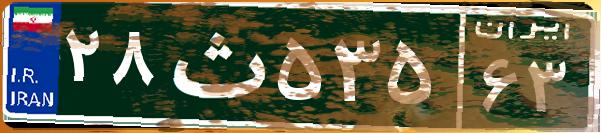2: (57, 26, 110, 107)
3: (330, 28, 385, 110), (525, 38, 570, 115)
5: (385, 28, 445, 110), (273, 28, 330, 110)
6: (475, 38, 525, 113)
8: (110, 28, 158, 105)
ث: (158, 15, 273, 115)
